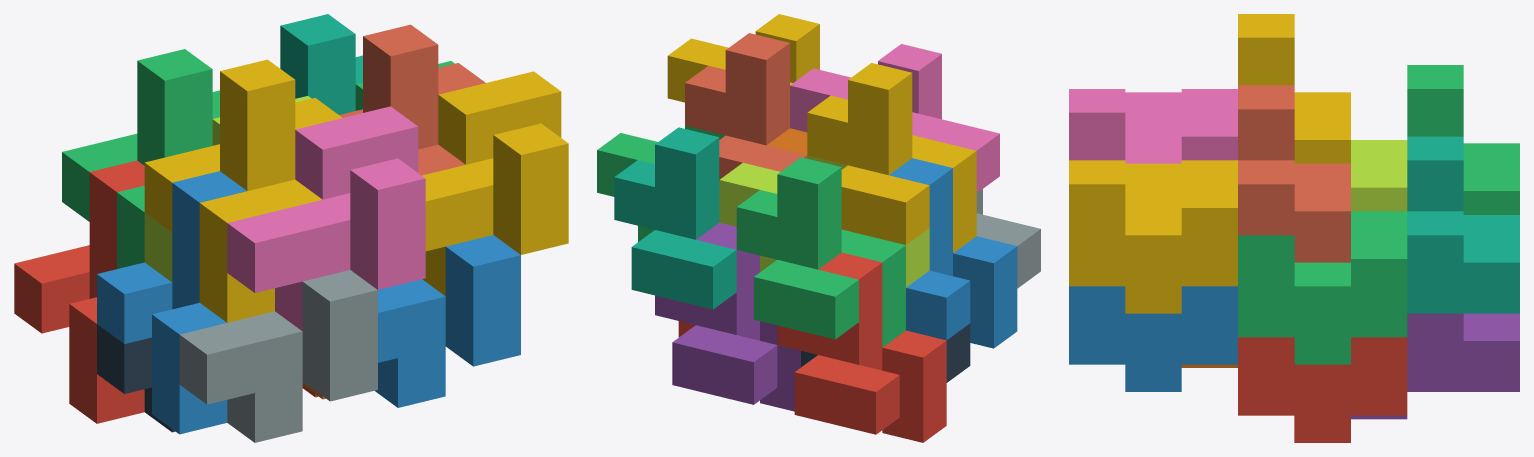
Rendered from tiling.obj.
The picture shows the model from 3 angles, left to right: view 1: azimuth 30°, elevation 25°; view 2: azimuth 150°, elevation 25°; view 3: azimuth 270°, elevation 25°; orthographic projection. The views are drawn at different scales.
Visible parts, largest first — view 1: copy_2_domain_4, copy_2_domain_8, copy_2_domain_2, copy_1_domain_4, copy_2_domain_6, copy_1_domain_2, copy_1_domain_1, copy_1_domain_3, copy_1_domain_8, copy_1_domain_7, copy_2_domain_1, copy_2_domain_3; view 2: copy_1_domain_3, copy_1_domain_4, copy_1_domain_1, copy_1_domain_7, copy_1_domain_5, copy_1_domain_2, copy_1_domain_8, copy_2_domain_4, copy_2_domain_8, copy_2_domain_3, copy_2_domain_2, copy_2_domain_7 (+2 smaller); view 3: copy_2_domain_8, copy_2_domain_7, copy_1_domain_7, copy_1_domain_8, copy_2_domain_5, copy_2_domain_6, copy_2_domain_4, copy_1_domain_5, copy_1_domain_3, copy_1_domain_4, copy_2_domain_3.
Part boxes in pixels (box(x1,y1,x2,y2)): copy_2_domain_4: box(227, 106, 425, 330); copy_2_domain_8: box(422, 71, 568, 295); copy_2_domain_2: box(179, 270, 377, 442); copy_1_domain_4: box(144, 59, 342, 322); copy_2_domain_6: box(374, 235, 520, 407); copy_1_domain_2: box(97, 171, 246, 434); copy_1_domain_1: box(14, 160, 144, 423); copy_1_domain_3: box(62, 49, 219, 268); copy_1_domain_8: box(339, 24, 485, 175); copy_1_domain_7: box(280, 14, 362, 114); copy_2_domain_1: box(97, 324, 174, 432); copy_2_domain_3: box(144, 96, 311, 282); copy_1_domain_3: box(736, 157, 905, 347); copy_1_domain_4: box(807, 63, 976, 252); copy_1_domain_1: box(777, 252, 946, 442); copy_1_domain_7: box(614, 127, 736, 309); copy_1_domain_5: box(655, 222, 800, 411); copy_1_domain_2: box(889, 158, 1017, 348); copy_1_domain_8: box(685, 33, 807, 179); copy_2_domain_4: box(790, 44, 999, 192); copy_2_domain_8: box(667, 14, 819, 102); copy_2_domain_3: box(719, 155, 929, 287); copy_2_domain_2: box(976, 189, 1040, 288); copy_2_domain_7: box(597, 125, 725, 241); copy_2_domain_8: box(1069, 160, 1237, 313); copy_2_domain_7: box(1238, 211, 1407, 364); copy_1_domain_7: box(1407, 136, 1519, 313); copy_1_domain_8: box(1238, 85, 1350, 262); copy_2_domain_5: box(1238, 337, 1407, 442); copy_2_domain_6: box(1069, 286, 1237, 391); copy_2_domain_4: box(1069, 89, 1237, 163); copy_1_domain_5: box(1351, 313, 1519, 419); copy_1_domain_3: box(1407, 65, 1519, 214); copy_1_domain_4: box(1238, 14, 1350, 163); copy_2_domain_3: box(1351, 140, 1407, 211).
Bounding box in the file's own units: 8 × 7 × 8.
